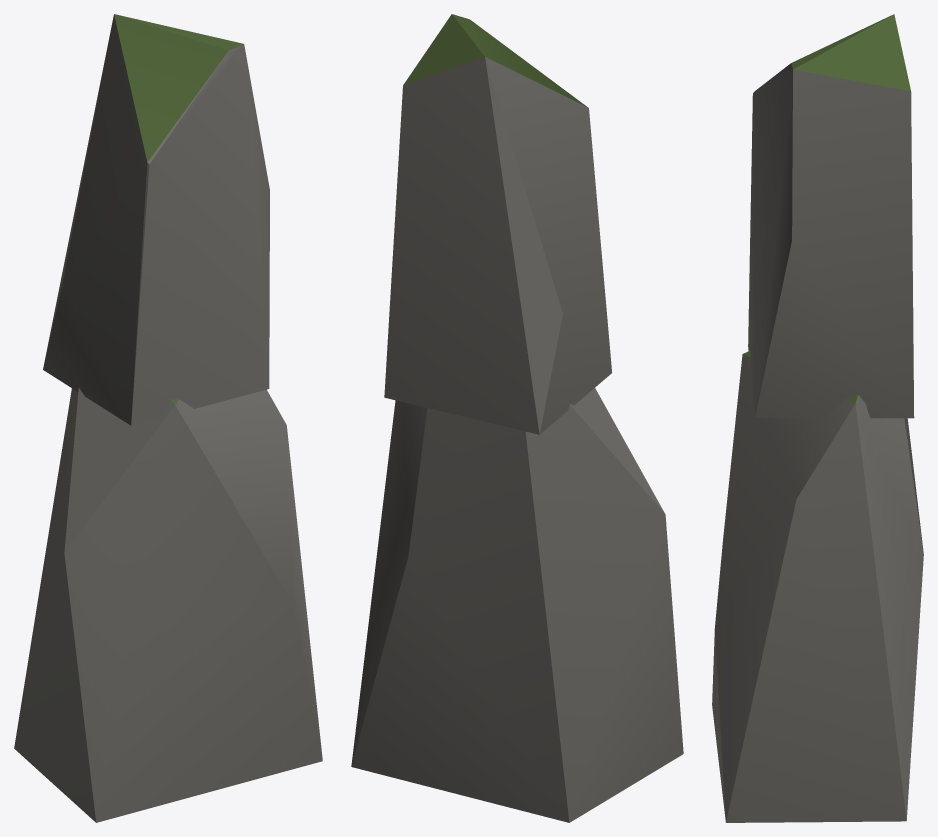
File: RockMassTall.fbx
The picture shows the model from 3 angles, left to right: view 1: azimuth 30°, elevation 25°; view 2: azimuth 150°, elevation 25°; view 3: azimuth 270°, elevation 25°; orthographic projection. The views are drawn at different scales.
Visible parts, largest first — view 1: RockMassTall; view 2: RockMassTall; view 3: RockMassTall.
Boxes of the visible parts, box(x1,y1,x2,y2) form: RockMassTall: box(14, 14, 322, 822); RockMassTall: box(351, 14, 683, 822); RockMassTall: box(712, 14, 923, 822).
Size of the model in its own units: 1.22 by 3.48 by 0.8978.
